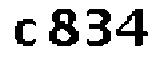3: (84, 6, 112, 50)
4: (115, 7, 149, 50)
8: (47, 6, 81, 51)
c: (12, 17, 39, 48)
